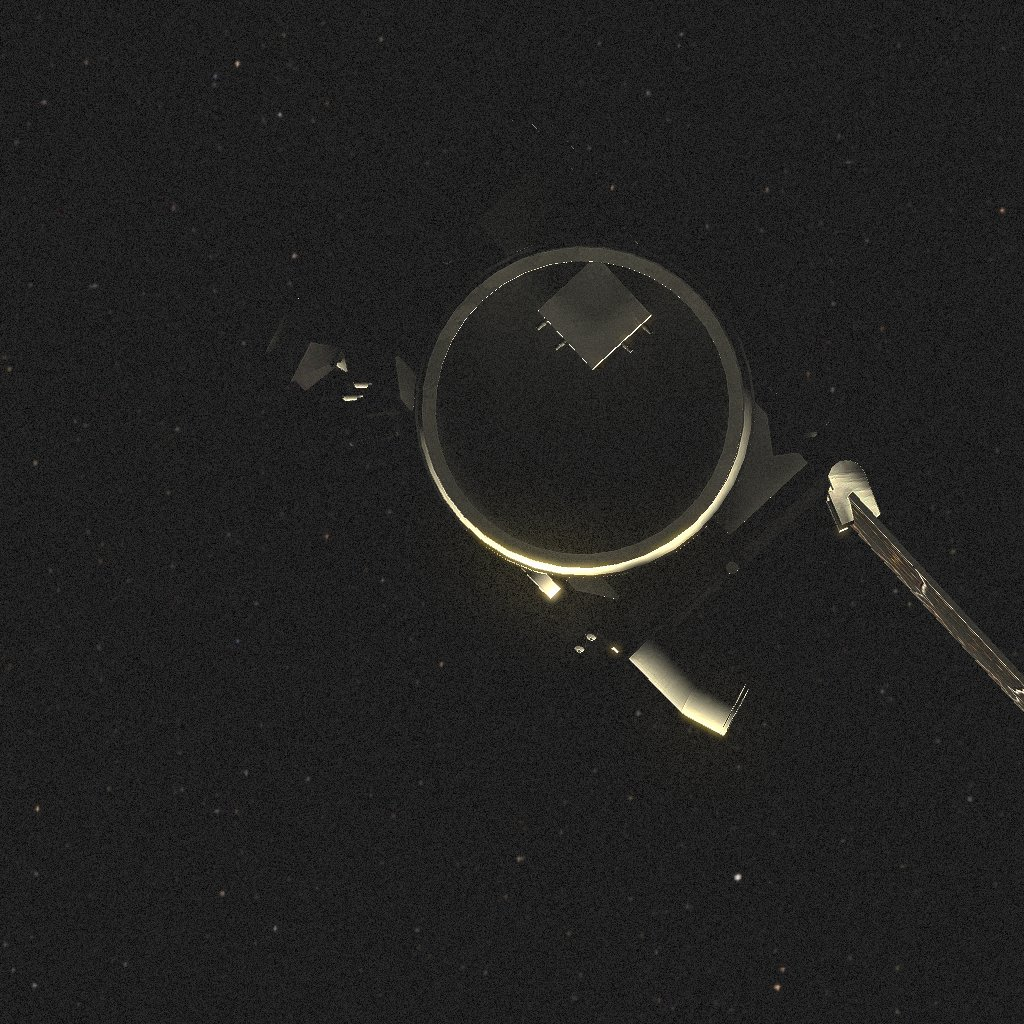proba_3_csc: (263, 107, 1024, 735)
